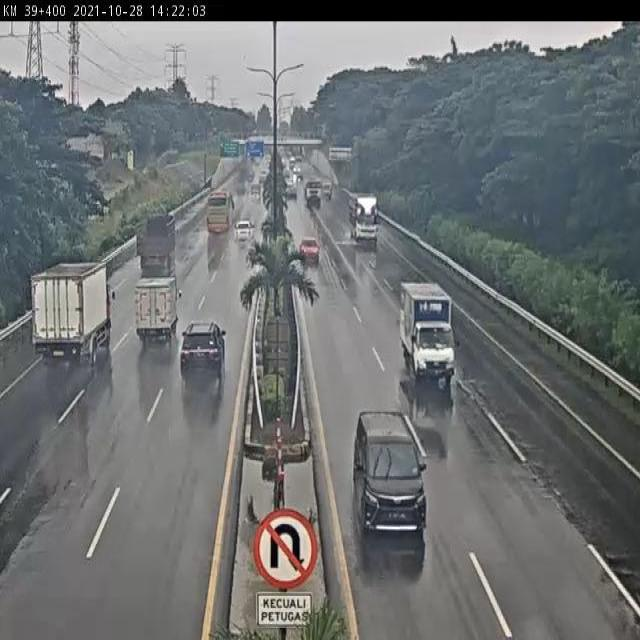big bus: (205, 187, 235, 236)
car: (351, 409, 426, 534), (178, 320, 226, 376), (233, 216, 256, 244), (297, 238, 320, 262)
truck-l-: (29, 257, 112, 364), (135, 212, 177, 273), (346, 191, 382, 249)
truck-s-: (398, 279, 457, 384), (131, 272, 181, 345)
